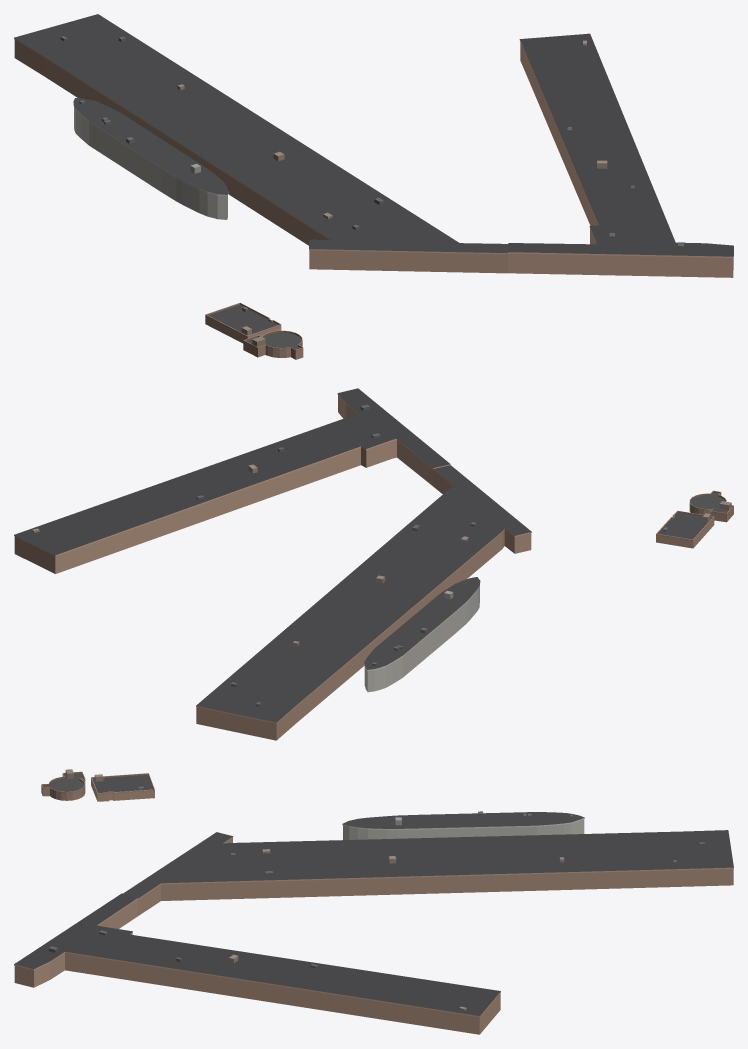
The model's file is 0_8.bld.glb.
3 views of the same model, one above another, from view 1: azimuth 30°, elevation 25°; view 2: azimuth 150°, elevation 25°; view 3: azimuth 270°, elevation 25° (orthographic). The views are drawn at different scales.
Parts seen in each view (by area): view 1: 0_8; view 2: 0_8; view 3: 0_8.
Boxes of the visible parts, bbox=[...] form: 0_8: bbox=[14, 14, 733, 359]; 0_8: bbox=[14, 388, 733, 740]; 0_8: bbox=[14, 769, 733, 1034].
Size of the model in its own units: 323 by 16.73 by 400.
